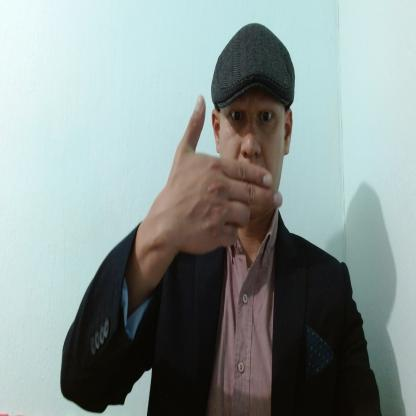H: (164, 95, 284, 253)
